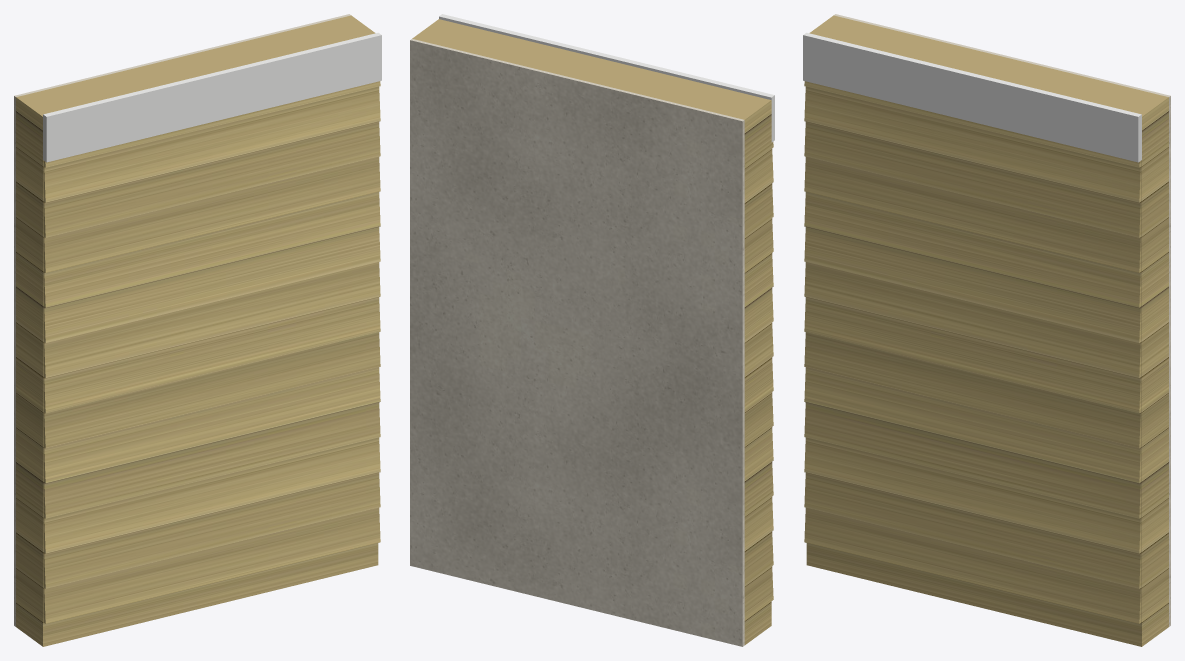
File: wall_siding_upper_plain.glb
3 renders of one model, left to right at view 1: azimuth 30°, elevation 25°; view 2: azimuth 150°, elevation 25°; view 3: azimuth 330°, elevation 25°, orthographic.
Visible parts, largest first — view 1: wall_siding_upper_plain_siding, wall_siding_upper_plain_trim, wall_siding_upper_plain_plaster; view 2: wall_siding_upper_plain_plaster, wall_siding_upper_plain_siding, wall_siding_upper_plain_trim; view 3: wall_siding_upper_plain_siding, wall_siding_upper_plain_trim, wall_siding_upper_plain_plaster.
Part boxes in pixels (left/top/right/bottom): wall_siding_upper_plain_siding: left=16, top=15, right=380, bottom=646; wall_siding_upper_plain_trim: left=43, top=32, right=381, bottom=162; wall_siding_upper_plain_plaster: left=14, top=14, right=350, bottom=626; wall_siding_upper_plain_plaster: left=410, top=39, right=744, bottom=646; wall_siding_upper_plain_siding: left=412, top=19, right=773, bottom=644; wall_siding_upper_plain_trim: left=439, top=14, right=774, bottom=142; wall_siding_upper_plain_siding: left=804, top=15, right=1168, bottom=646; wall_siding_upper_plain_trim: left=803, top=32, right=1141, bottom=162; wall_siding_upper_plain_plaster: left=834, top=14, right=1170, bottom=626.
Bounding box in the file's own units: 2 × 3.04 × 0.335.
3 materials, 2 textured.
